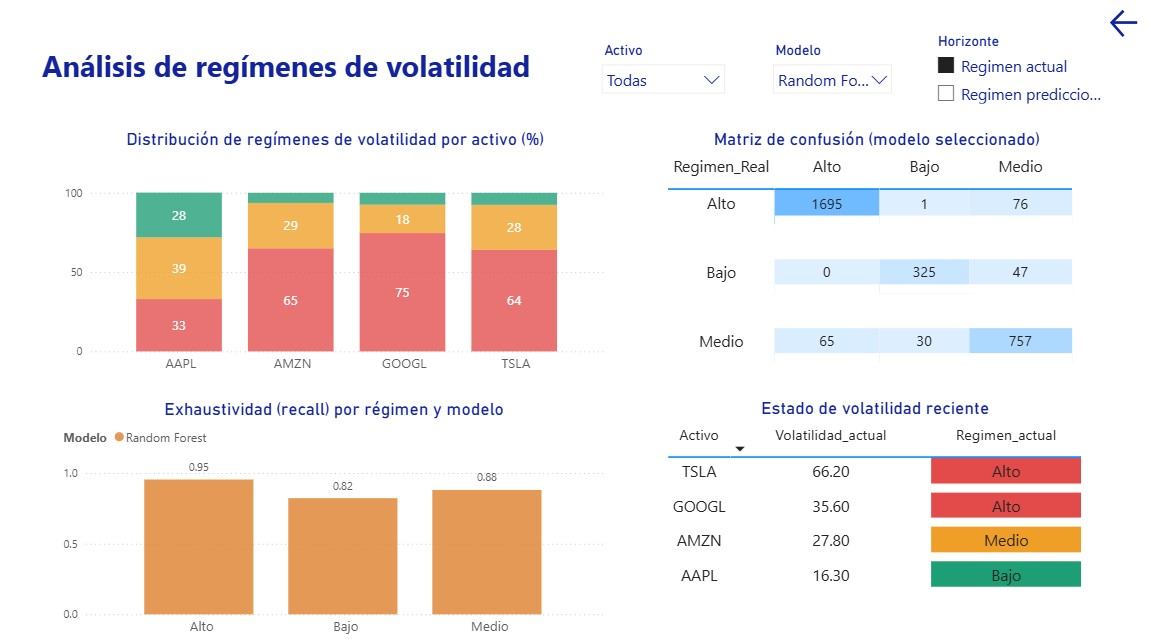

The page's visual inventory and layout, read from the dashboard file:
{"tool":"powerbi","page":{"name":"Análisis","canvas":[1280,720],"ordinal":1},"visuals":[{"type":"columnChart","title":"Distribución de regímenes de volatilidad por activo (%)","fields":{"Category":["Activos.Activo"],"Y":["Sum(pbi_distribucion_clases.Porcentaje)"],"Series":["pbi_distribucion_clases.Orden_Regimen"]},"box":[71.4,149.6,607.9,279.9],"z":0},{"type":"pivotTable","title":"Matriz de confusión (modelo seleccionado)","fields":{"Rows":["pbi_matrices_confusion.Regimen_Real"],"Values":["Sum(pbi_matrices_confusion.Conteo)"],"Columns":["pbi_matrices_confusion.Regimen_Predicho"]},"box":[738.3,149.6,470.7,297.8],"z":1000},{"type":"textbox","box":[47.2,52.7,632.5,63.8],"z":4000},{"type":"clusteredColumnChart","title":"Exhaustividad (recall) por régimen y modelo","fields":{"Category":["pbi_recall_regimen.Regimen"],"Series":["Modelos.Modelo"],"Y":["Sum(pbi_recall_regimen.Recall_Promedio)"]},"box":[70.7,448,608.9,271.9],"z":5000},{"type":"tableEx","title":"Estado de volatilidad reciente","fields":{"Values":["pbi_estado_actual.Activo","Sum(pbi_estado_actual.Volatilidad_actual)","pbi_estado_actual.Regimen_actual"]},"box":[737.9,446.6,470.2,228.9],"z":6000},{"type":"actionButton","box":[1227.6,12.5,47.2,40.2],"z":7001},{"type":"slicer","fields":{"Values":["Activos.Activo"]},"box":[660.2,48.3,156.1,73.2],"z":7002},{"type":"slicer","fields":{"Values":["Modelos.Modelo"]},"box":[849.4,48.3,151.9,73.2],"z":7003},{"type":"slicer","fields":{"Values":["Horizontes.Horizonte"]},"box":[1029.2,38.4,207.2,93.3],"z":7004}]}

Visuals, with their boxes in screenshot pixels (x1, y1, x2, y2), scaled from the page's 1280x720 canvas onto the 1151x643 screenshot:
"Distribución de regímenes de volatilidad por activo (%)" columnChart: crop(64, 134, 611, 384)
"Matriz de confusión (modelo seleccionado)" pivotTable: crop(664, 134, 1087, 400)
textbox: crop(42, 47, 611, 104)
"Exhaustividad (recall) por régimen y modelo" clusteredColumnChart: crop(64, 400, 611, 642)
"Estado de volatilidad reciente" tableEx: crop(664, 399, 1086, 603)
actionButton: crop(1104, 11, 1146, 47)
slicer - Activos.Activo: crop(594, 43, 734, 109)
slicer - Modelos.Modelo: crop(764, 43, 900, 109)
slicer - Horizontes.Horizonte: crop(925, 34, 1112, 118)
